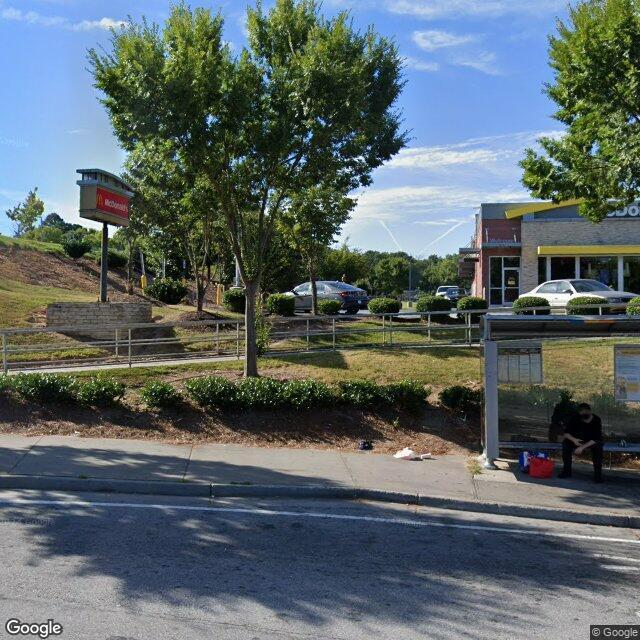seating: (562, 436, 640, 470)
shelter: (482, 313, 640, 478)
